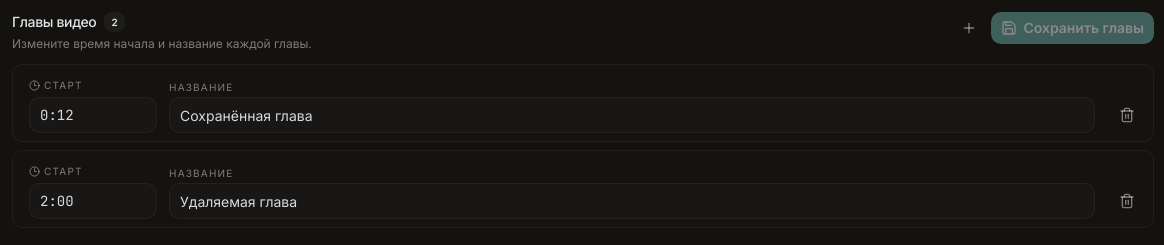
manual video chapters through the existing FileService API › disables editing and duplicate saves while the existing PUT is pending
Replace the text in the field named "Название главы 1" with "Черновик" at point(632, 115), box [169, 97, 1095, 133]
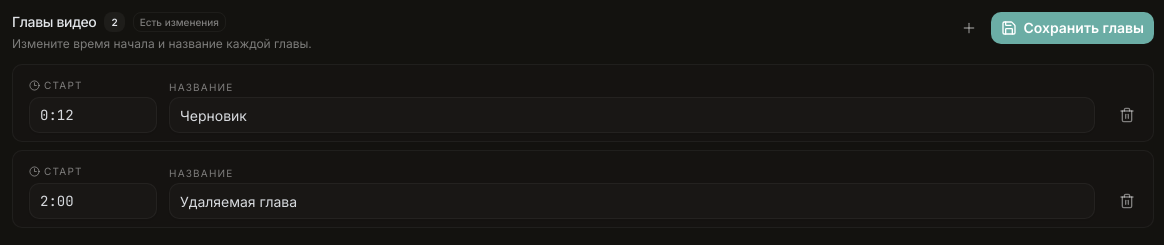
Click the button "Сохранить главы" at point(1073, 28), box [991, 12, 1154, 44]
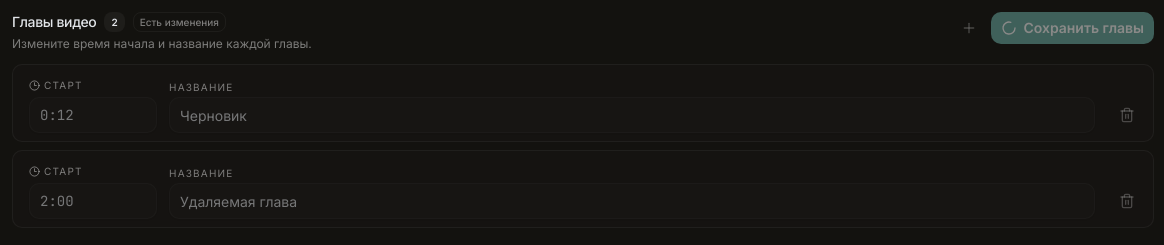
expect the field named "Название главы 1" is disabled: met, box [169, 97, 1095, 133]
expect the button named "Добавить главу" is disabled: met, box [953, 12, 985, 44]
expect the button named "Удалить главу 1" is disabled: met, box [1111, 99, 1143, 131]
Click the button "Сохранить главы" at point(1073, 28), box [991, 12, 1154, 44]
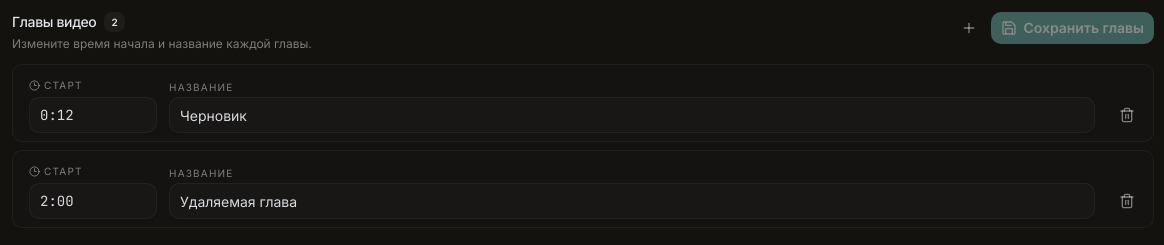
expect the field named "Название главы 1" is enabled: met, box [169, 97, 1095, 133]
